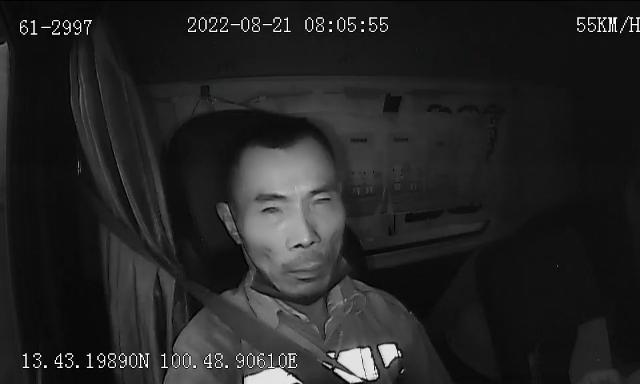SafeDriving: (416, 92, 464, 125), (304, 186, 341, 212), (254, 196, 292, 220)
Seatbelt: (112, 212, 352, 384)
